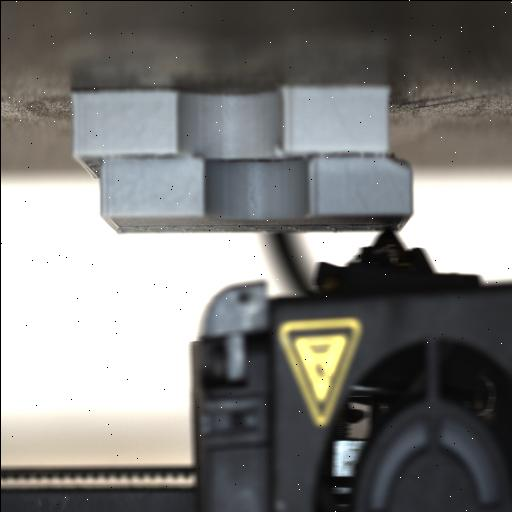layer_shift: (75, 146, 411, 176)
